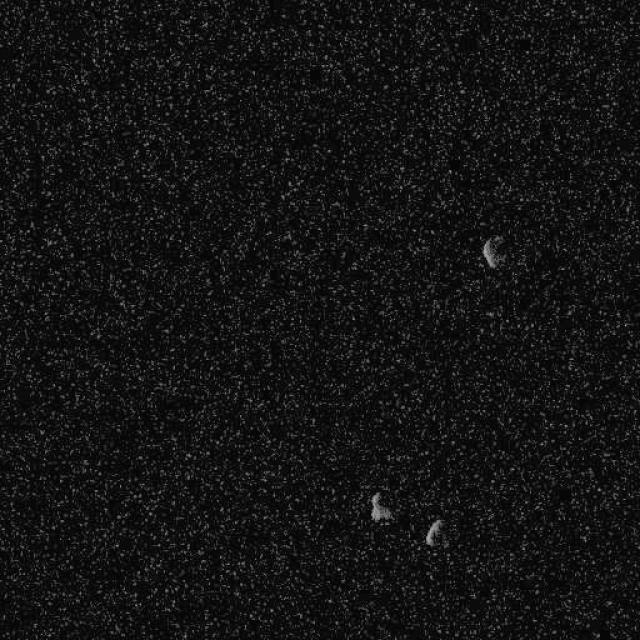D2: (480, 234, 506, 270), (368, 490, 394, 524), (424, 518, 444, 548)
